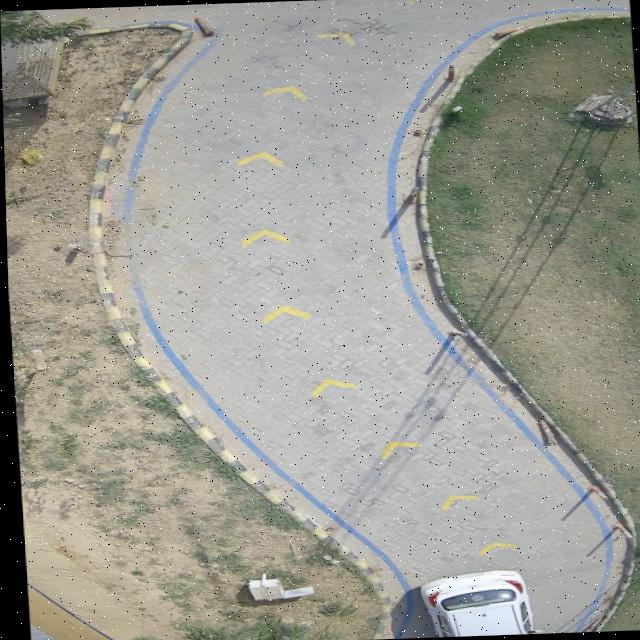car: (412, 570, 533, 636)
